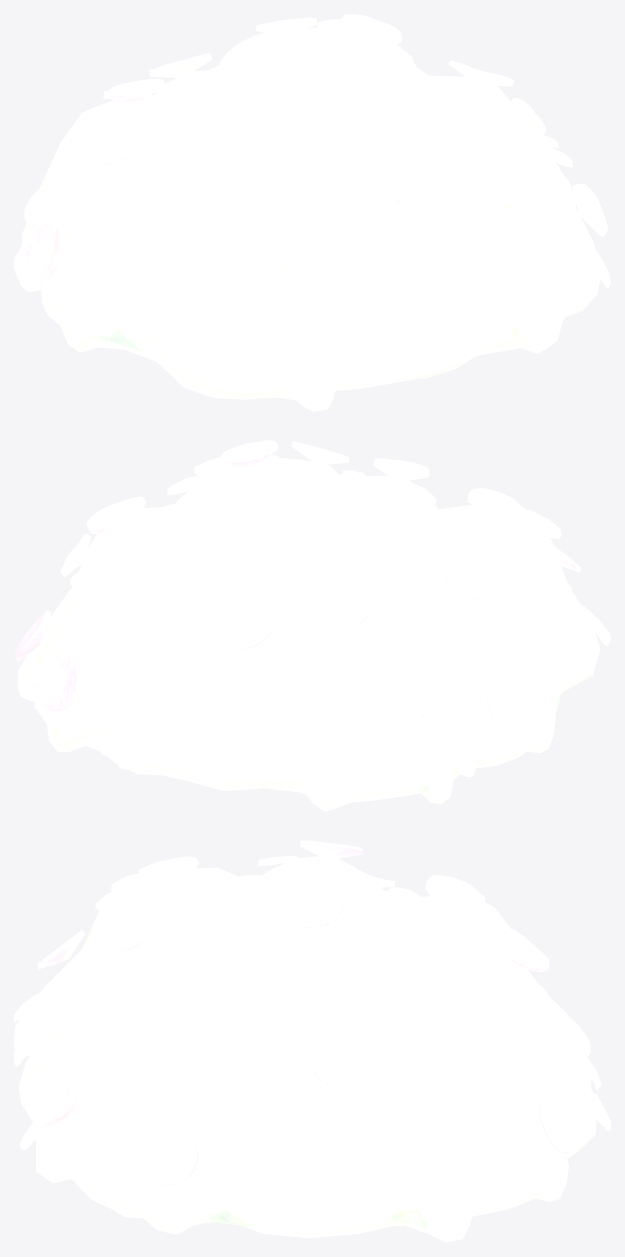
Rendered from colina-flores.glb.
3 renders of one model, top to bottom at view 1: azimuth 30°, elevation 25°; view 2: azimuth 150°, elevation 25°; view 3: azimuth 270°, elevation 25°, orthographic. The views are drawn at different scales.
Visible parts, largest first — view 1: mesh_node; view 2: mesh_node; view 3: mesh_node.
Part boxes in pixels (<box>): mesh_node: <box>14,14,610,411</box>; mesh_node: <box>14,440,610,811</box>; mesh_node: <box>14,840,610,1242</box>.
Bounding box in the file's own units: 1 × 0.499 × 1.
1 material, 1 textured.
